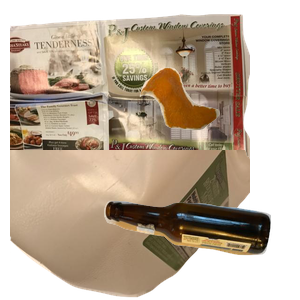glass: (101, 198, 300, 300)
paper: (10, 11, 250, 180)
plastic: (10, 150, 250, 300)
trash: (137, 65, 300, 188)
